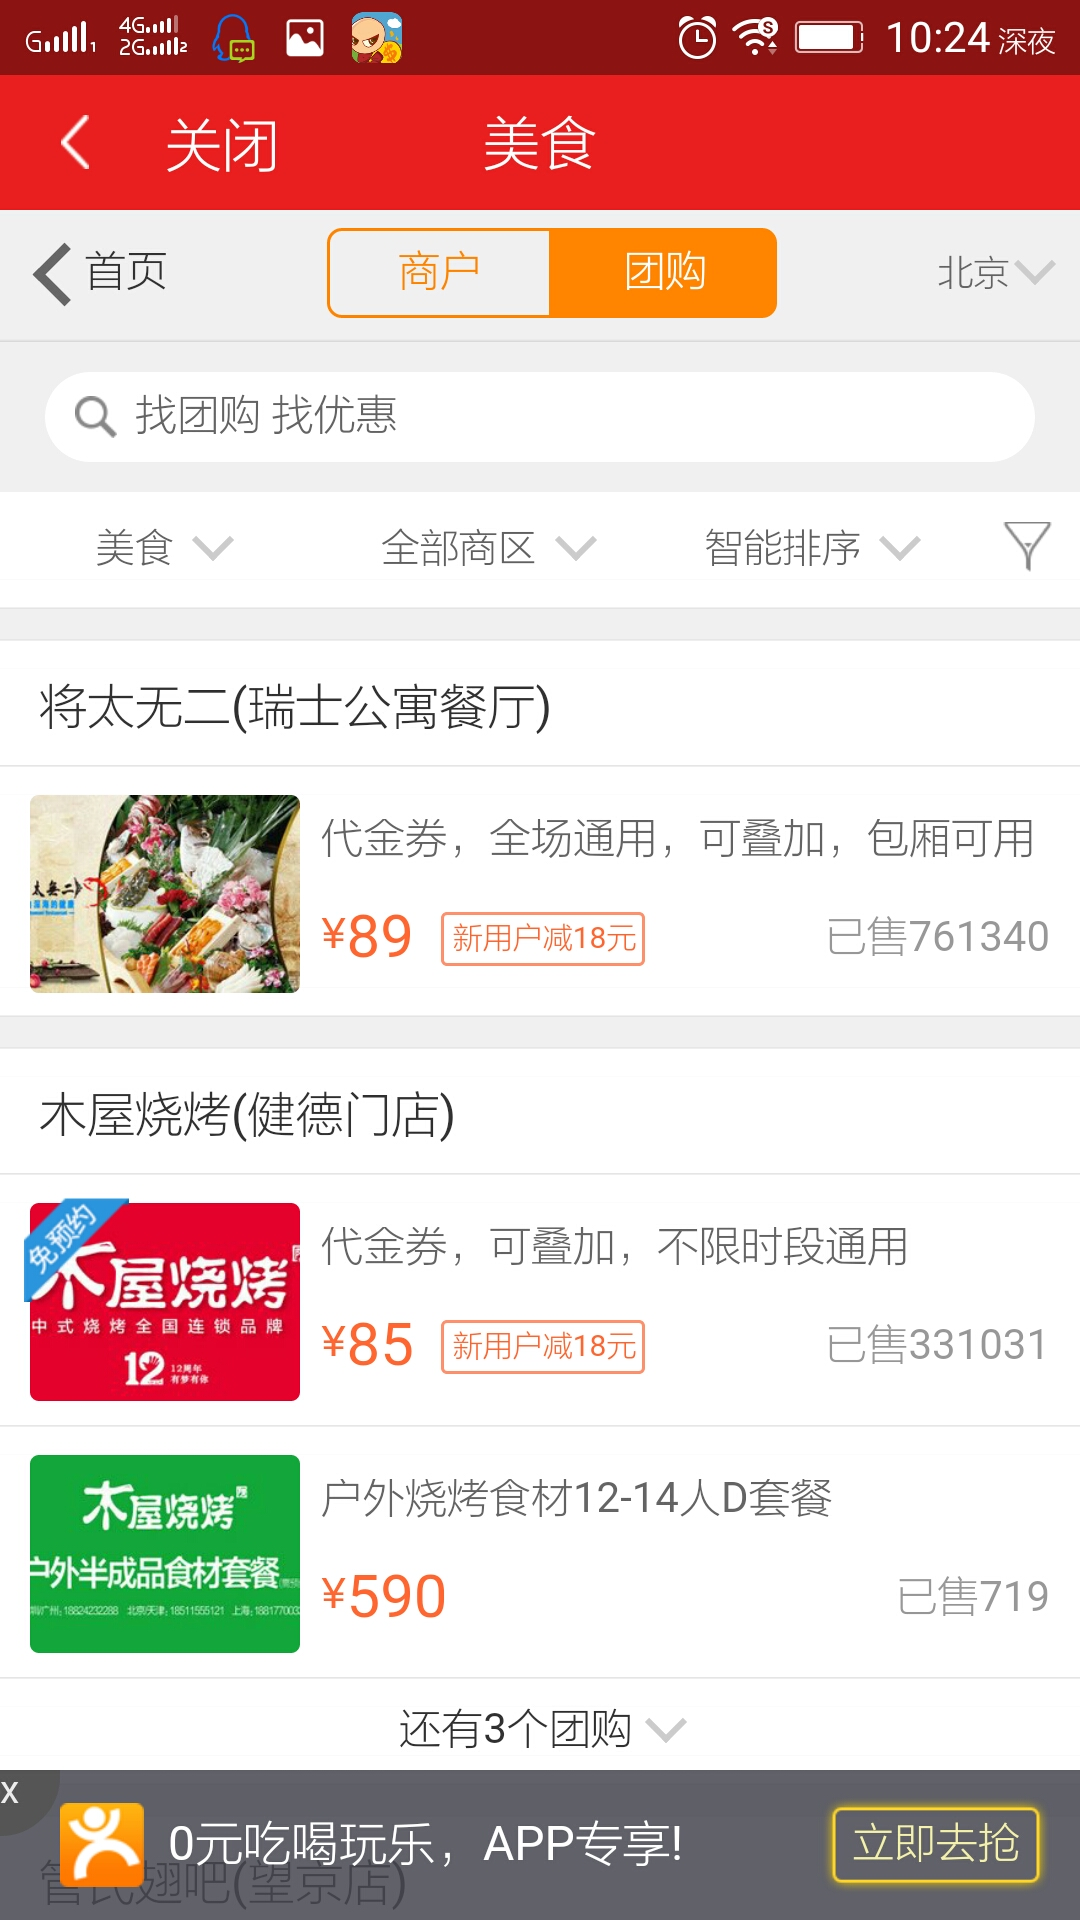button: (295, 222, 798, 328)
imgview: (11, 1189, 313, 1410)
nav: (21, 497, 1079, 607)
textview: (42, 360, 1046, 477)
